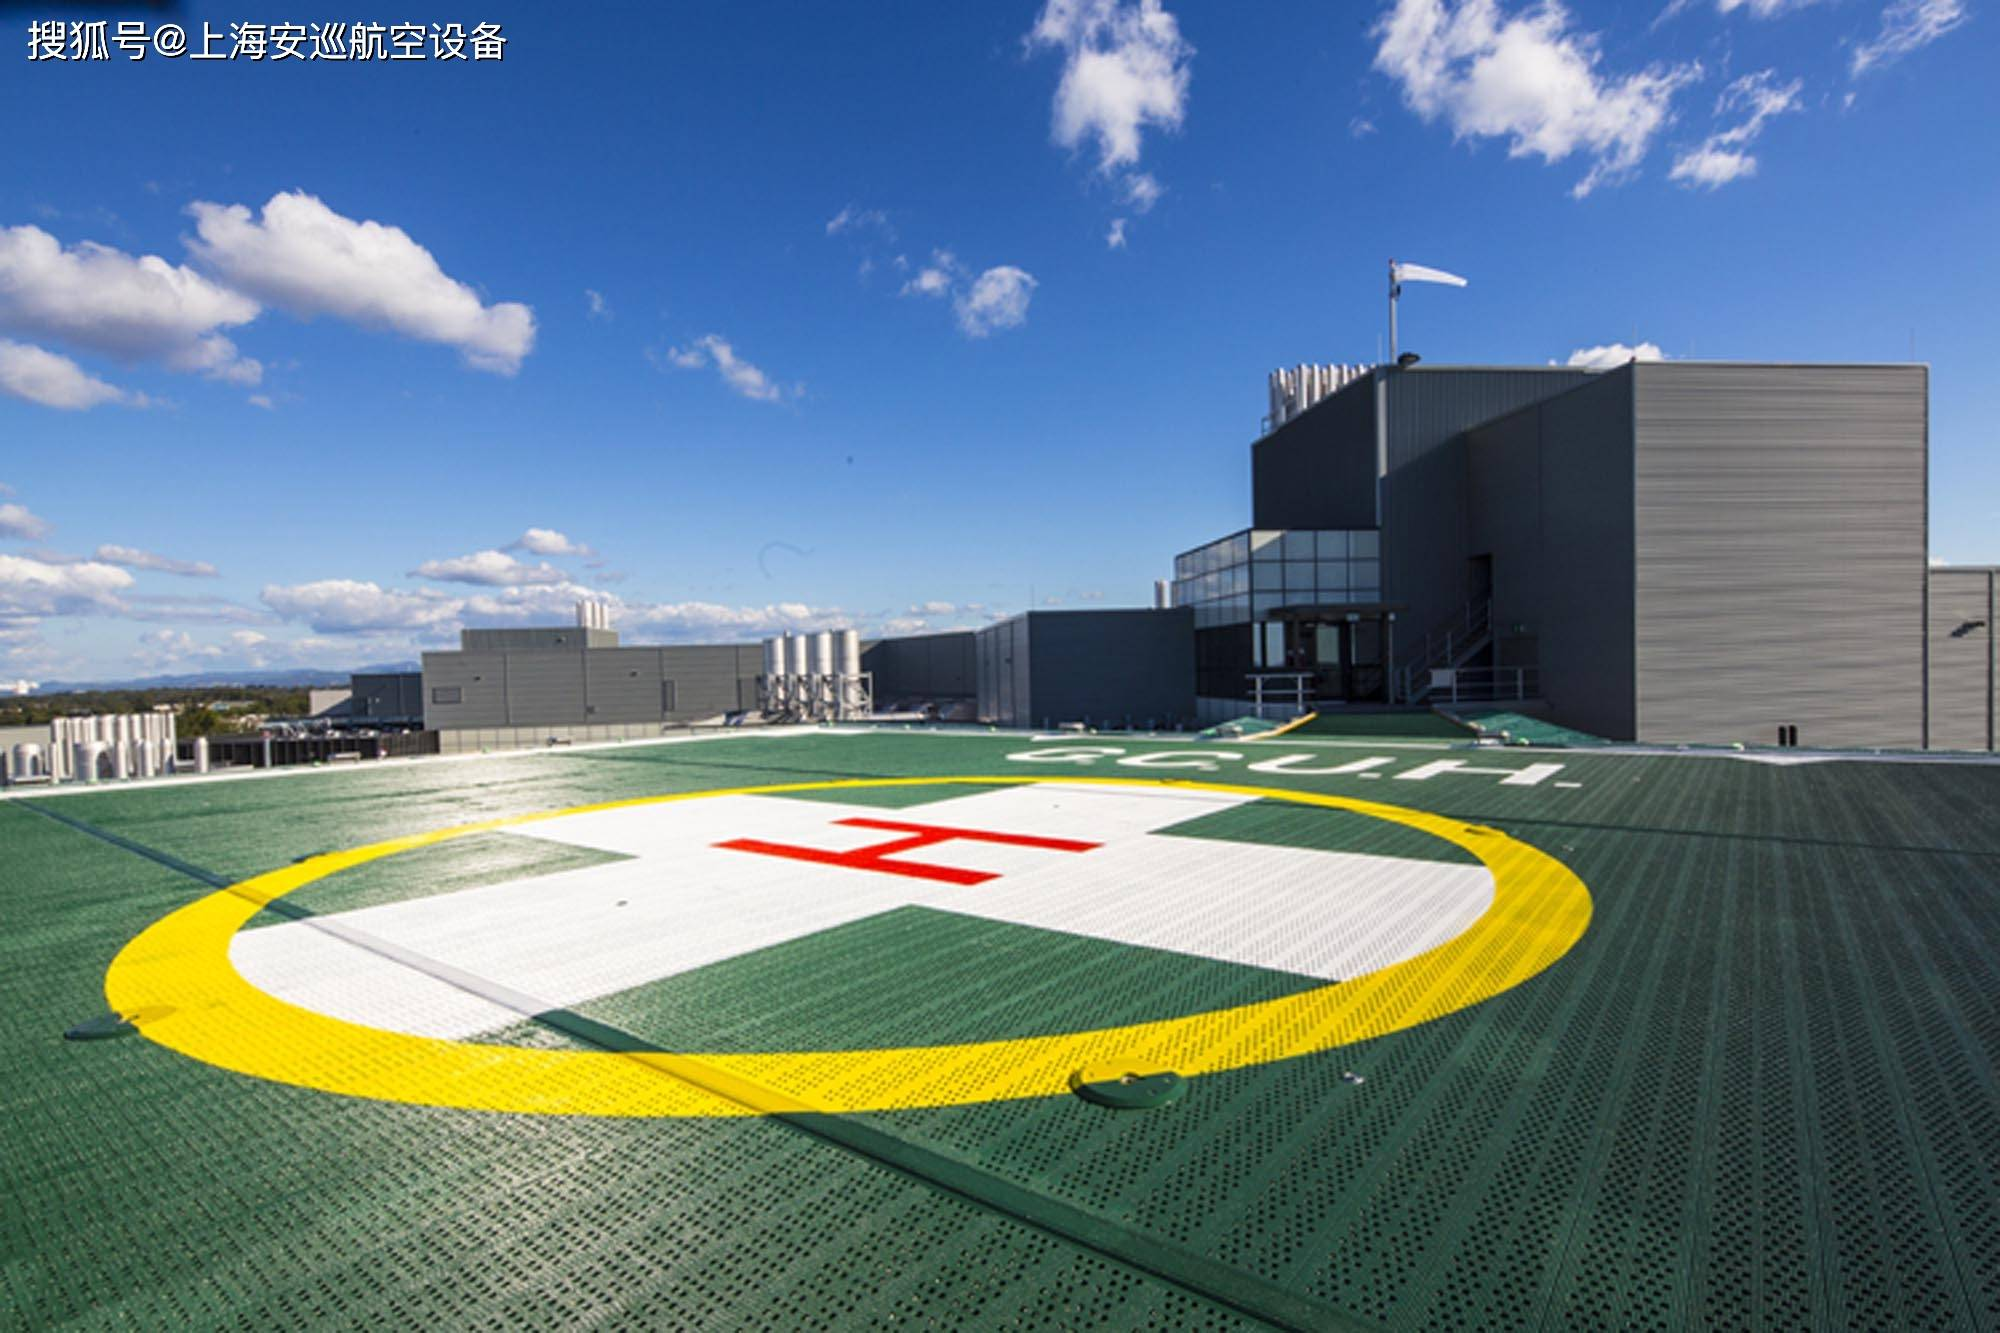H: (709, 818, 1108, 888)
